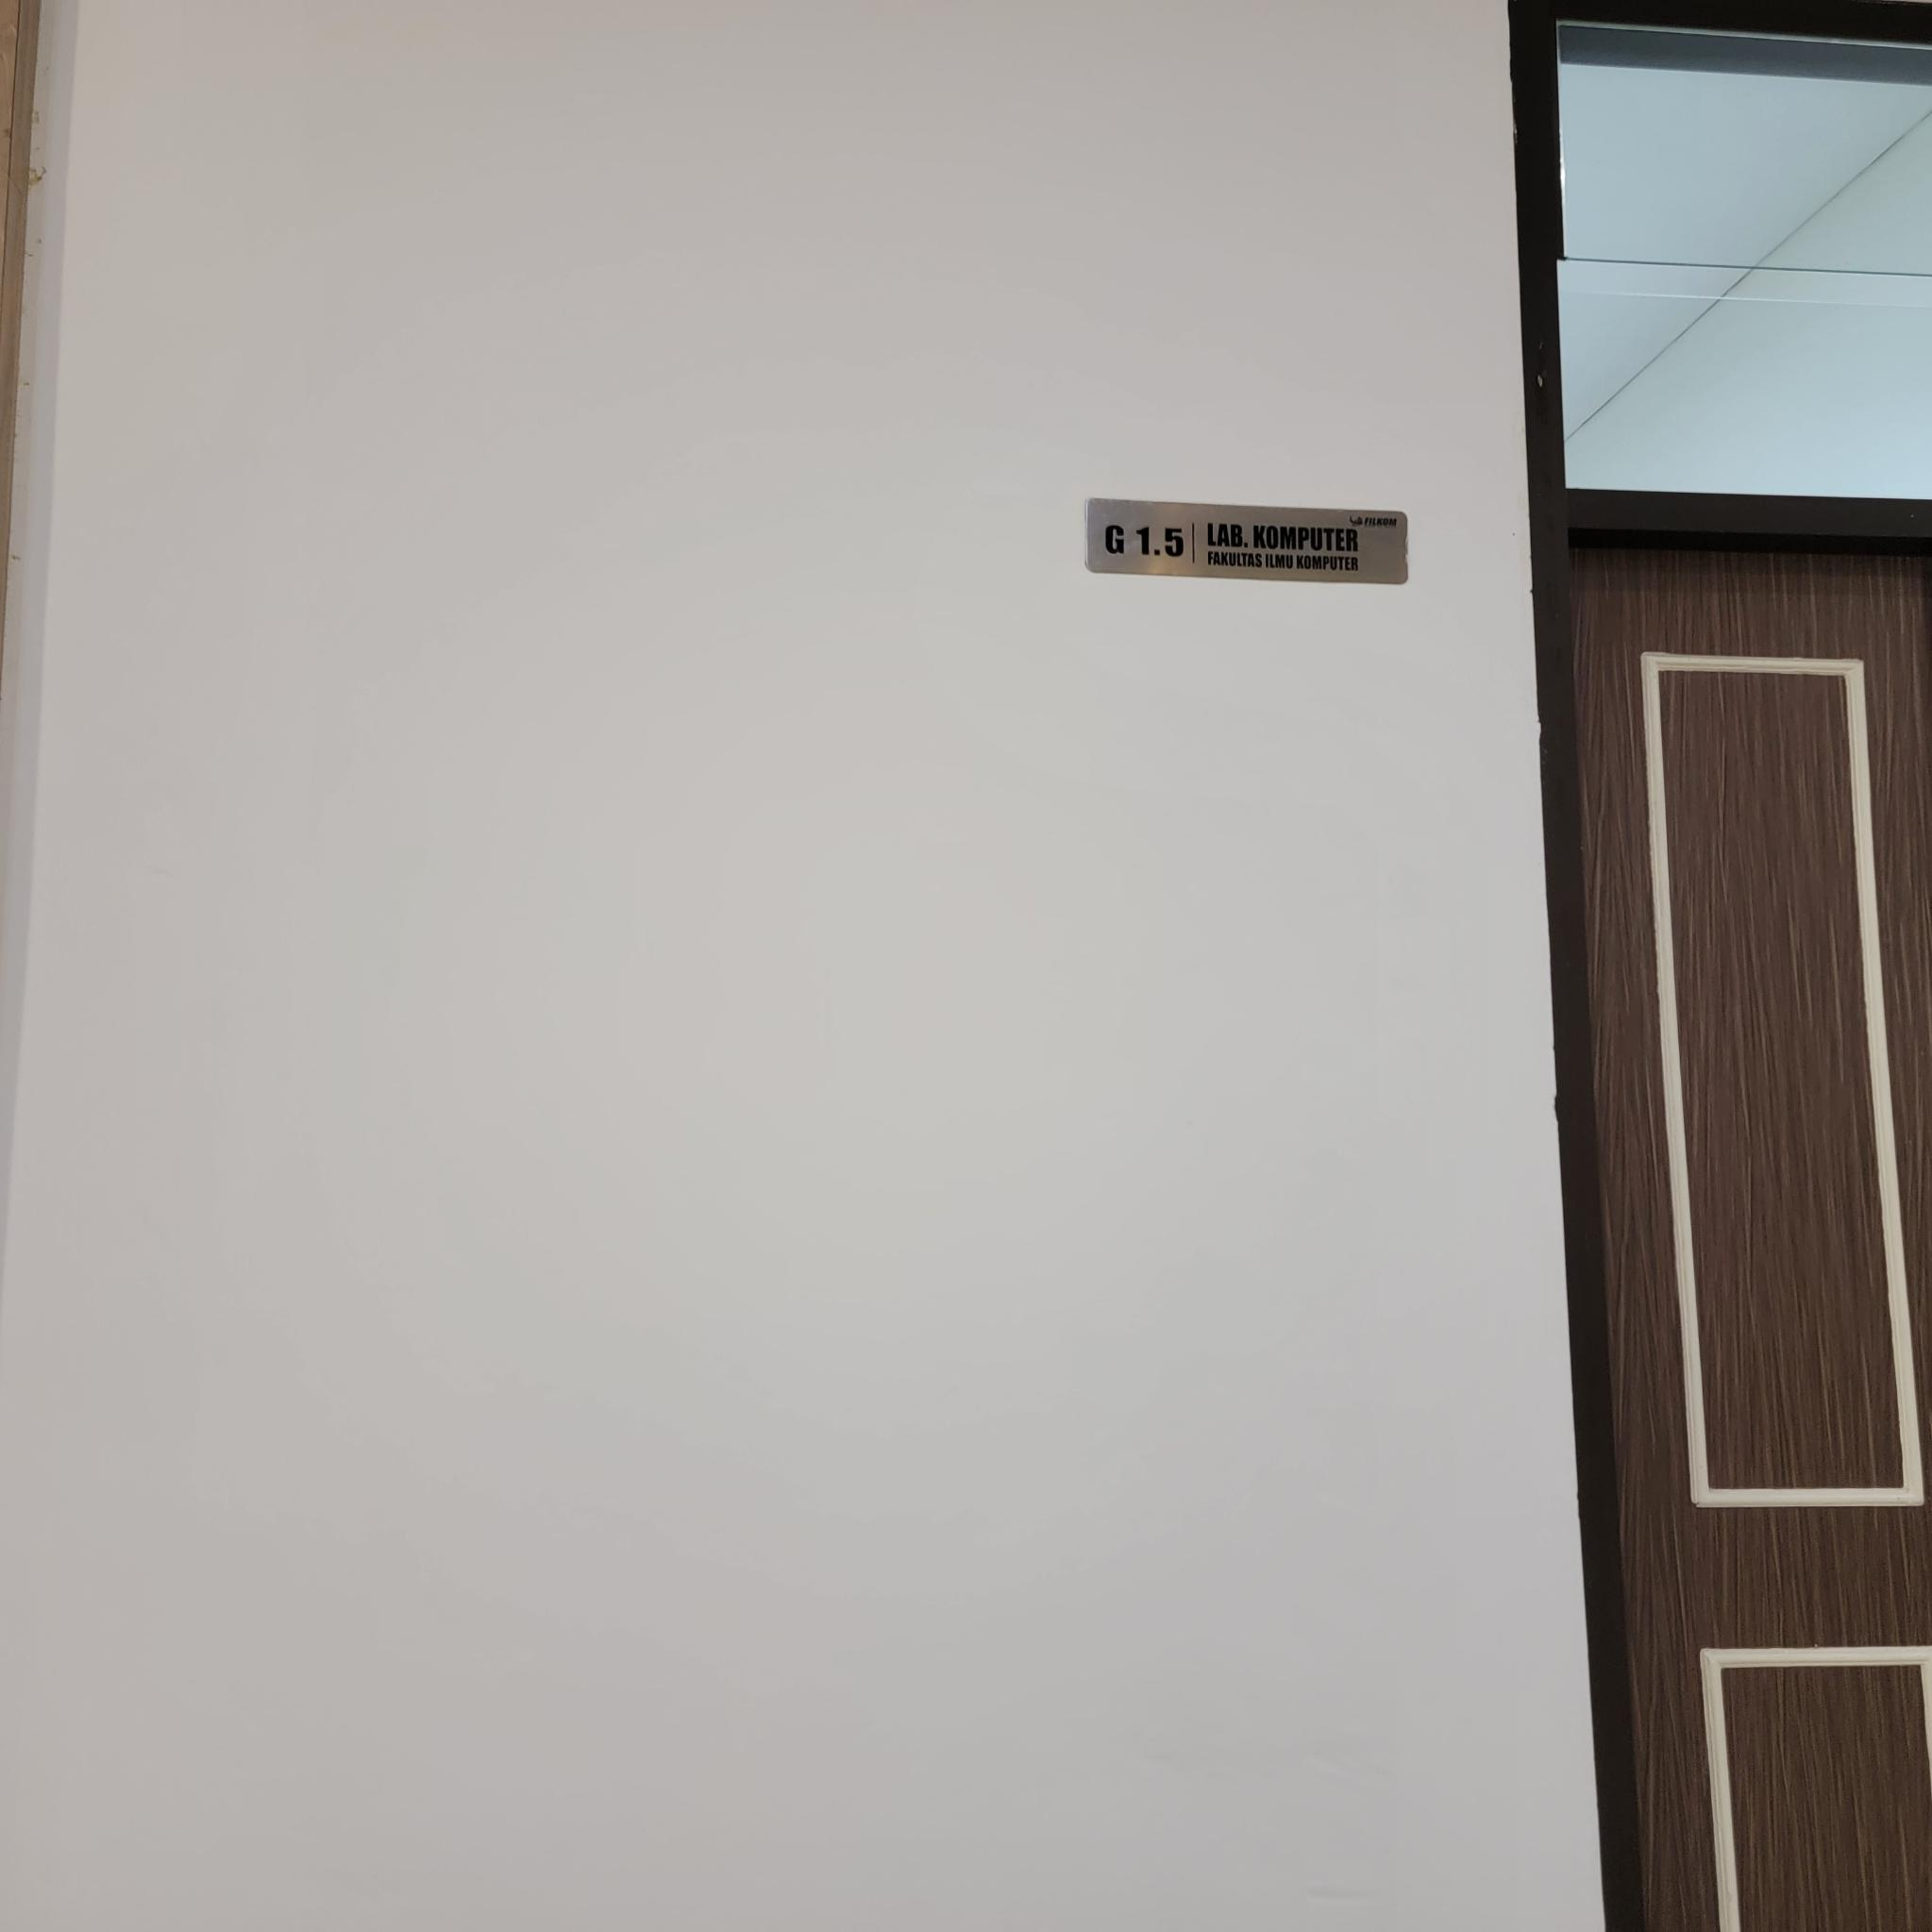plate: (1086, 497, 1410, 586)
